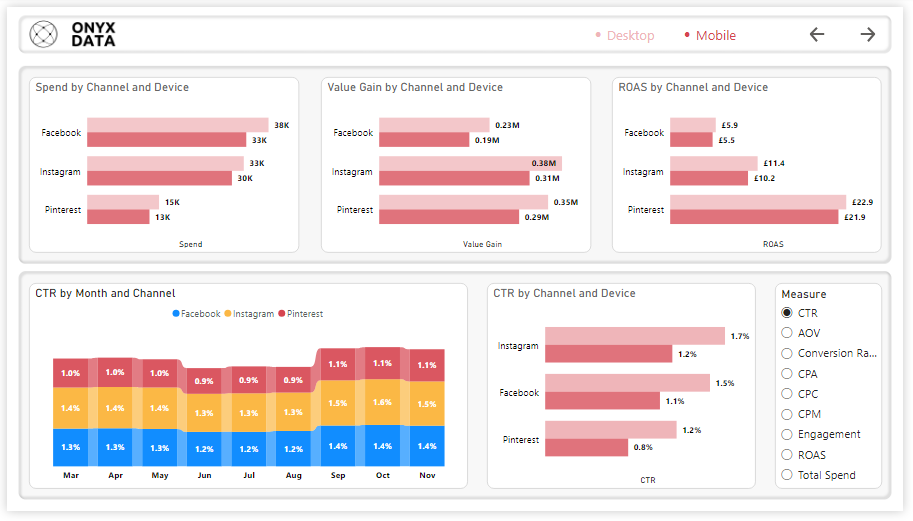

The page's visual inventory and layout, read from the dashboard file:
{"tool":"powerbi","page":{"name":"Device","canvas":[1280,720],"ordinal":1},"visuals":[{"type":"columnChart","fields":{"Y":["__Measures.Avg CTR%"],"Category":["data.Mmm"],"Series":["data.Channel"]},"box":[31.4,394.3,627.1,294.3],"z":0},{"type":"slicer","fields":{"Values":["Measure_Param.Measure"]},"box":[1097.1,394.3,152.9,294.3],"z":1000},{"type":"clusteredBarChart","fields":{"Y":["__Measures.Avg CTR%"],"Category":["data.Channel"],"Series":["data.Device"]},"box":[685.7,394.3,384.3,294.3],"z":2000},{"type":"clusteredBarChart","fields":{"Y":["Sum(data.Spend, GBP)"],"Category":["data.Channel"],"Series":["data.Device"]},"box":[31.4,100,385.7,251.4],"z":3000},{"type":"clusteredBarChart","fields":{"Y":["Sum(data.Value Gain)"],"Category":["data.Channel"],"Series":["data.Device"]},"box":[447.9,100,385.7,251.4],"z":4000},{"type":"clusteredBarChart","fields":{"Y":["__Measures.Revenue on Ad Spend (ROAS)"],"Category":["data.Channel"],"Series":["data.Device"]},"box":[864.3,100,385,251.4],"z":5000},{"type":"actionButton","box":[1214.4,24.3,30,30],"z":6000},{"type":"actionButton","box":[1143,24.3,30,30],"z":7000},{"type":"textbox","box":[823.4,12.8,234,51.4],"z":8000}]}

Visuals, with their boxes in screenshot pixels (x1, y1, x2, y2), scaled from the page's 1280x720 canvas onto the 913x521 screenshot:
columnChart - __Measures.Avg CTR% x data.Mmm: detection(22, 285, 470, 498)
slicer - Measure_Param.Measure: detection(783, 285, 892, 498)
clusteredBarChart - __Measures.Avg CTR% x data.Channel: detection(489, 285, 763, 498)
clusteredBarChart - Sum(data.Spend, GBP) x data.Channel: detection(22, 72, 298, 254)
clusteredBarChart - Sum(data.Value Gain) x data.Channel: detection(319, 72, 595, 254)
clusteredBarChart - __Measures.Revenue on Ad Spend (ROAS) x data.Channel: detection(616, 72, 891, 254)
actionButton: detection(866, 18, 888, 39)
actionButton: detection(815, 18, 837, 39)
textbox: detection(587, 9, 754, 46)
